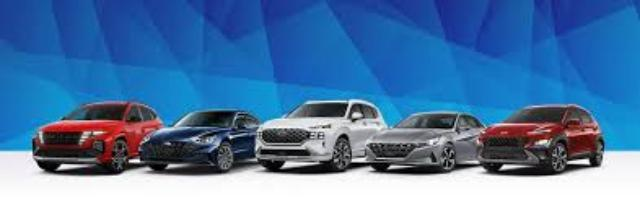hyundai: (255, 100, 389, 172), (31, 102, 163, 174), (476, 104, 606, 174), (138, 110, 260, 172), (364, 112, 486, 172)
